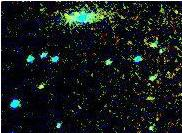star: (161, 0, 182, 24)
